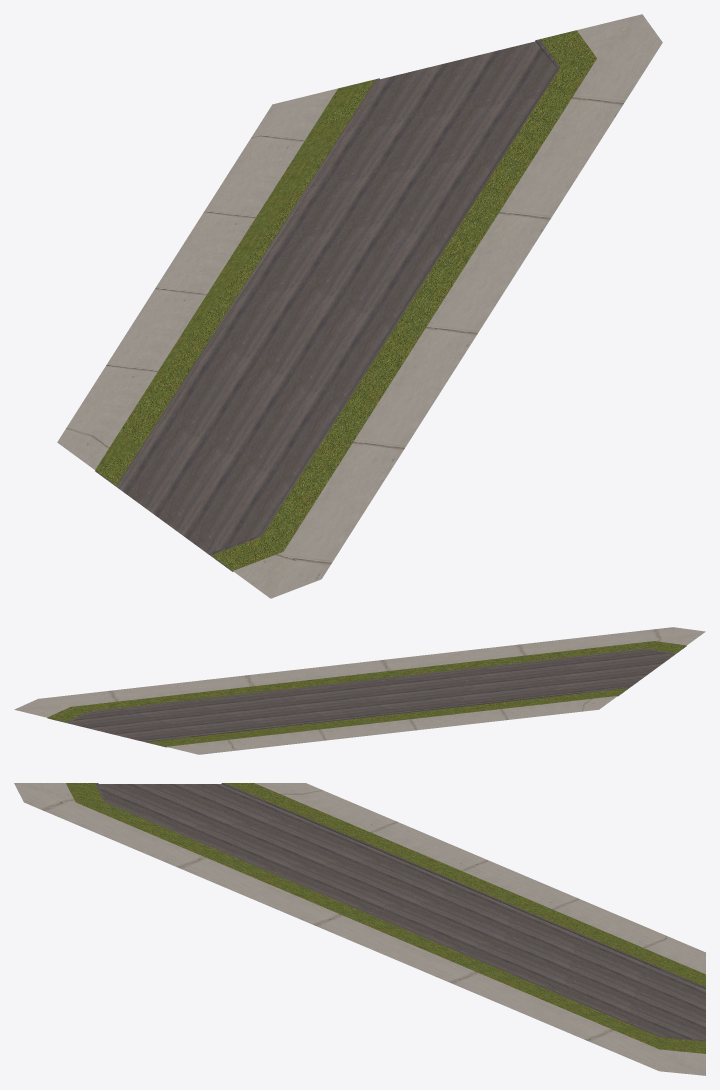
Rendered from RunnerRoadTurn1.fbx.
The picture shows the model from 3 angles, top to bottom: view 1: azimuth 30°, elevation 25°; view 2: azimuth 150°, elevation 25°; view 3: azimuth 270°, elevation 25°; orthographic projection. The views are drawn at different scales.
Parts seen in each view (by area): view 1: SM_Road_01.004; view 2: SM_Road_01.004; view 3: SM_Road_01.004.
Part boxes in pixels (x1,y1,x2,y2): SM_Road_01.004: [57, 14, 662, 598]; SM_Road_01.004: [14, 627, 705, 754]; SM_Road_01.004: [14, 783, 705, 1075].
Bounding box in the file's own units: 7710 × 9.56 × 7700.
